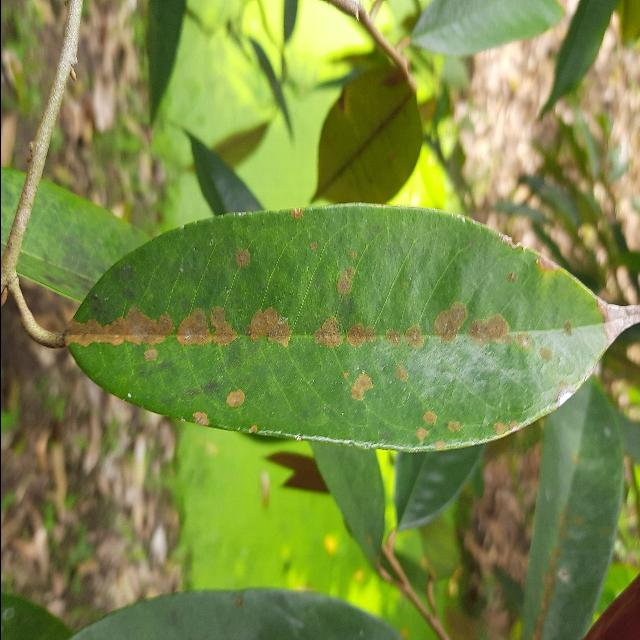Algal Leaf Spot: (0, 199, 640, 459)
